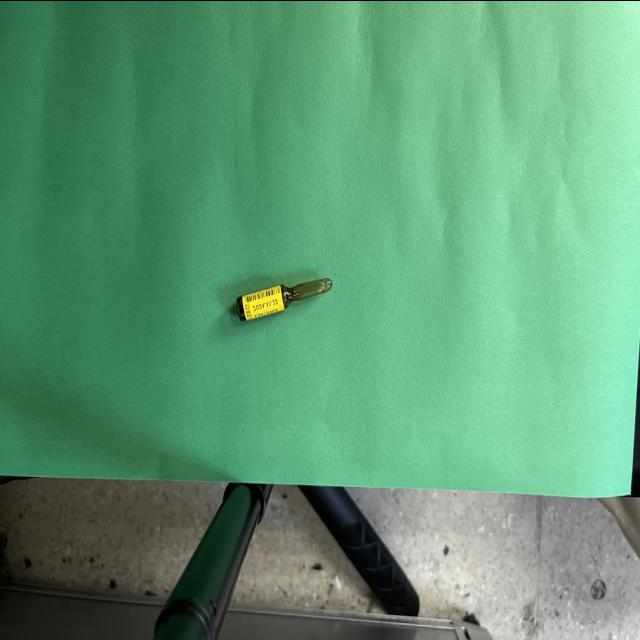Ampoules: (237, 277, 333, 320)
